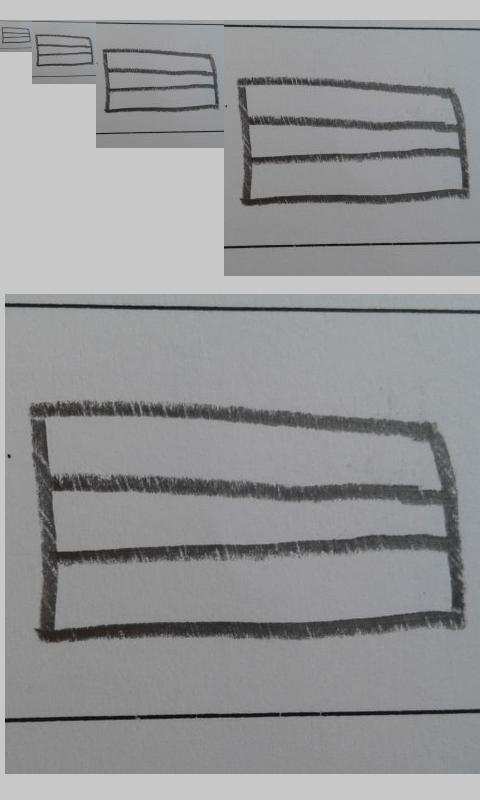list_view: (31, 401, 467, 646), (236, 73, 470, 208), (102, 48, 219, 113), (35, 33, 95, 67), (1, 26, 31, 44)
